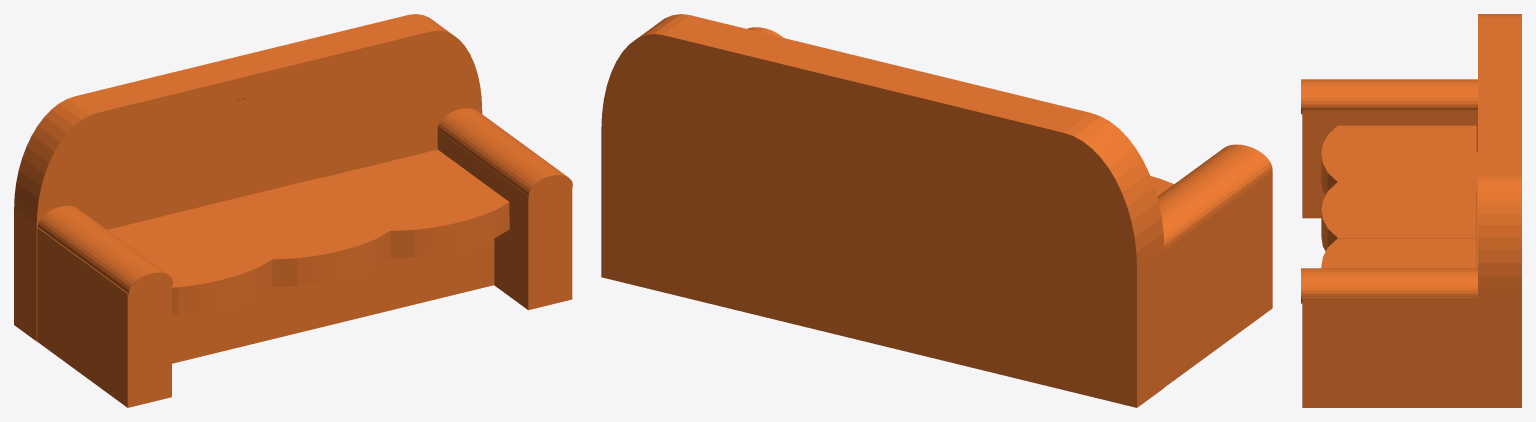
The model's file is sillon.obj.
3 renders of one model, left to right at view 1: azimuth 30°, elevation 25°; view 2: azimuth 150°, elevation 25°; view 3: azimuth 270°, elevation 25°, orthographic. The views are drawn at different scales.
Parts seen in each view (by area): view 1: Cube.008_Cube.018; view 2: Cube.008_Cube.018; view 3: Cube.008_Cube.018.
Boxes of the visible parts, bbox=[...] form: Cube.008_Cube.018: bbox=[14, 14, 572, 407]; Cube.008_Cube.018: bbox=[601, 14, 1272, 407]; Cube.008_Cube.018: bbox=[1301, 14, 1521, 407].
Size of the model in its own units: 21.14 by 9.71 by 9.35.
Materials: 1 (1 with a texture image).
